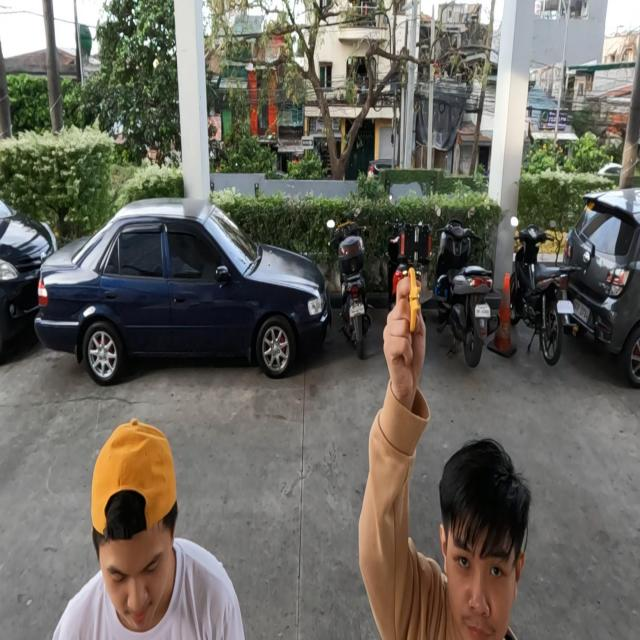scissor: (407, 268, 434, 331)
